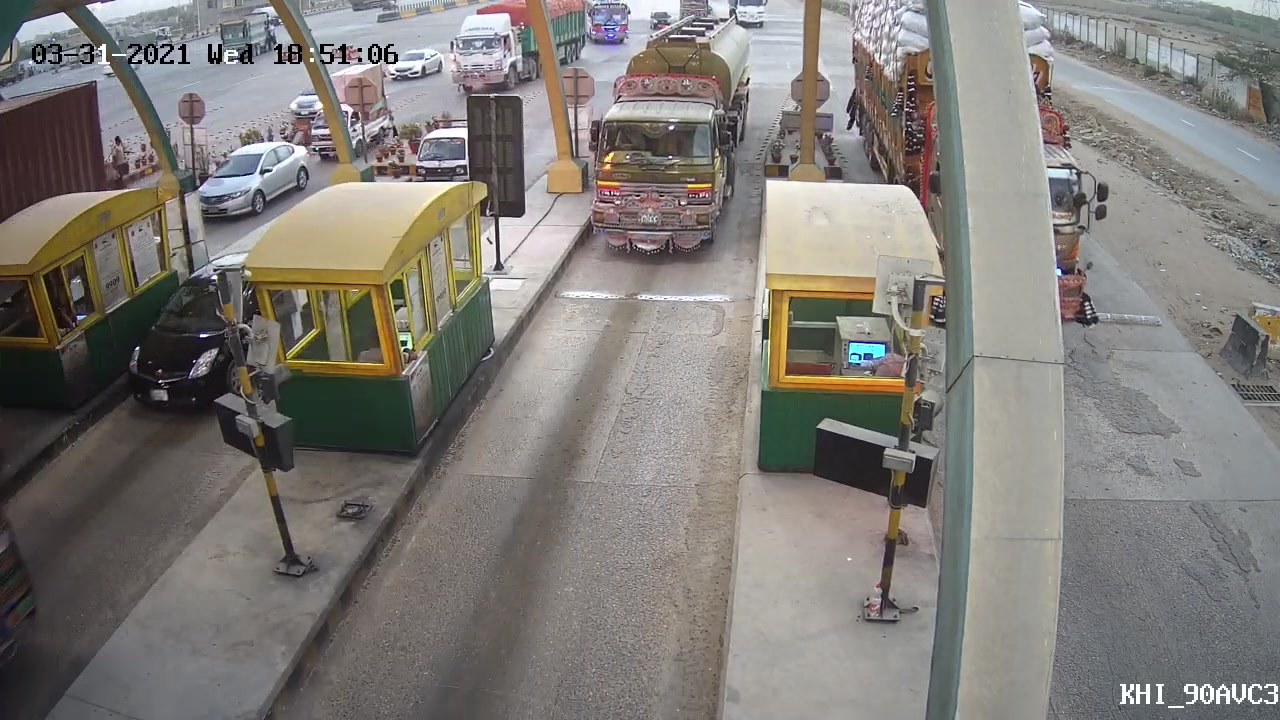F6: (575, 7, 758, 259)
